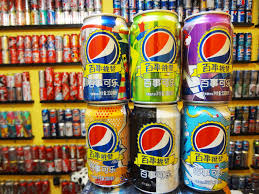can: (77, 103, 133, 194), (184, 94, 233, 194), (130, 8, 176, 110), (139, 99, 187, 192), (82, 9, 128, 106), (182, 12, 228, 106)
